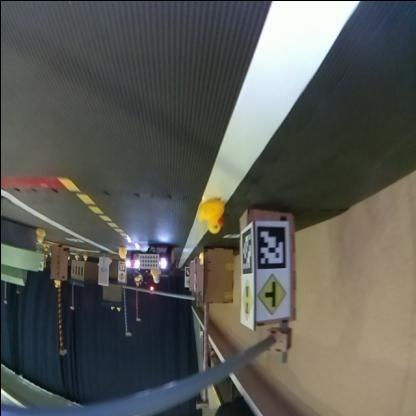Duckie: (198, 201, 222, 231), (150, 270, 160, 282), (34, 230, 44, 242), (118, 248, 122, 258), (53, 280, 59, 286)
Duckiebot: (138, 244, 172, 274), (124, 252, 143, 276)
Intersection sign: (256, 274, 286, 316)
QR code: (256, 223, 286, 268), (240, 230, 252, 274)
Signal sign: (242, 279, 254, 319)
